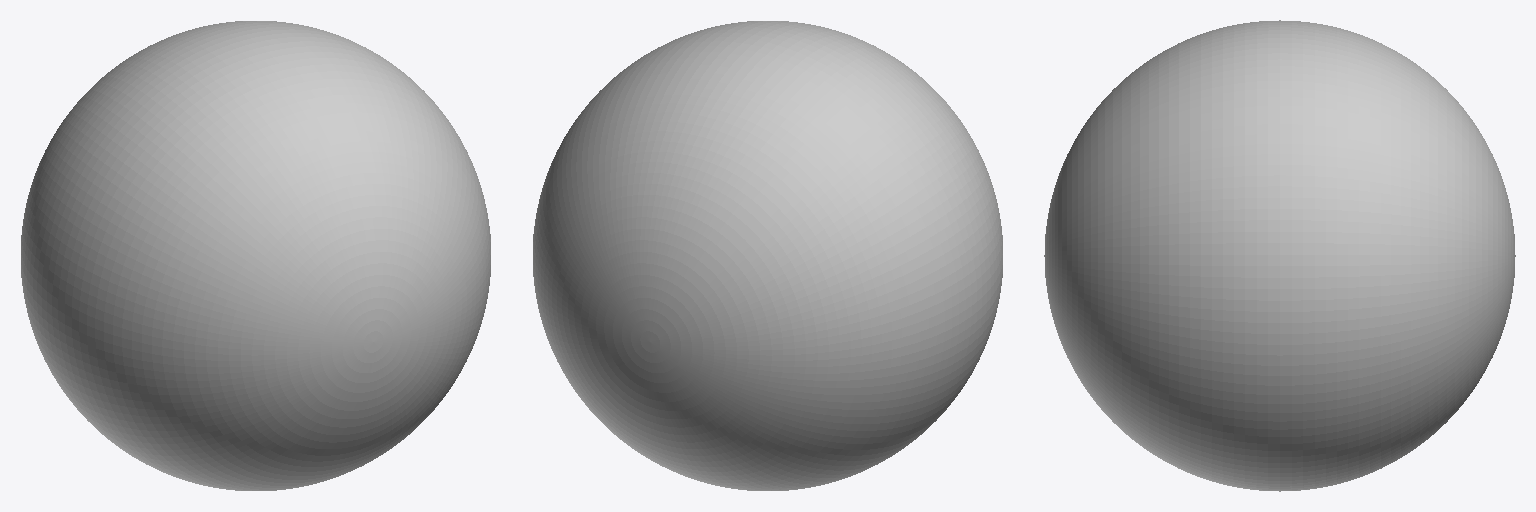
File: skysphere.obj
3 views of the same model, side by side, from view 1: azimuth 30°, elevation 25°; view 2: azimuth 150°, elevation 25°; view 3: azimuth 270°, elevation 25° (orthographic).
Parts seen in each view (by area): view 1: Sphere; view 2: Sphere; view 3: Sphere.
Part boxes in pixels (left/top/right/bottom): Sphere: left=21, top=21, right=490, bottom=490; Sphere: left=533, top=21, right=1002, bottom=490; Sphere: left=1044, top=20, right=1515, bottom=491.
Size of the model in its own units: 40 by 40 by 40.